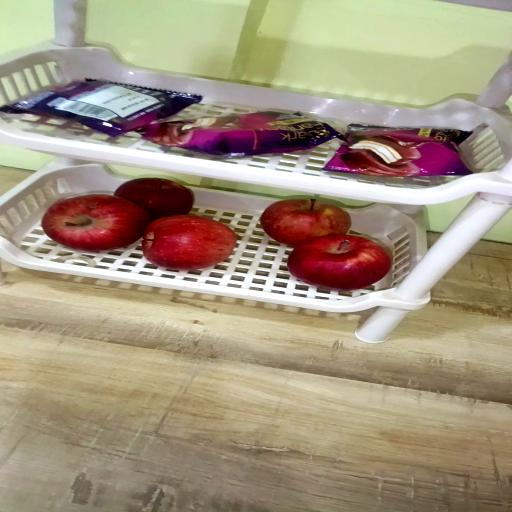Apple: (41, 196, 149, 253), (289, 236, 392, 292), (142, 216, 236, 272), (260, 201, 352, 249), (112, 180, 192, 224)
Choco Pie: (0, 79, 201, 136), (142, 110, 344, 156), (325, 124, 473, 175)
